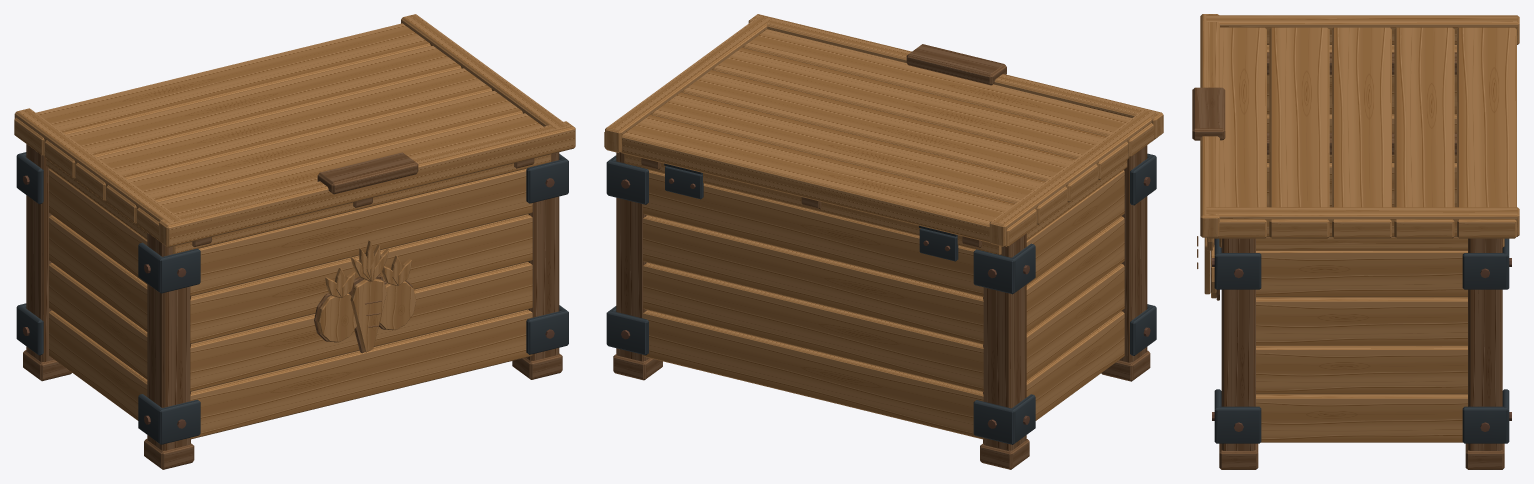
The model's file is ShippingBin_A.fbx.
3 renders of one model, left to right at view 1: azimuth 30°, elevation 25°; view 2: azimuth 150°, elevation 25°; view 3: azimuth 270°, elevation 25°, orthographic. The views are drawn at different scales.
Visible parts, largest first — view 1: ShippingBin_Body_LOD0, ShippingBin_Lid_LOD0; view 2: ShippingBin_Body_LOD0, ShippingBin_Lid_LOD0; view 3: ShippingBin_Lid_LOD0, ShippingBin_Body_LOD0.
Part boxes in pixels (left/top/right/bottom): ShippingBin_Body_LOD0: left=16, top=144, right=568, bottom=469; ShippingBin_Lid_LOD0: left=14, top=14, right=575, bottom=247; ShippingBin_Body_LOD0: left=606, top=145, right=1156, bottom=469; ShippingBin_Lid_LOD0: left=604, top=14, right=1163, bottom=247; ShippingBin_Lid_LOD0: left=1192, top=14, right=1519, bottom=238; ShippingBin_Body_LOD0: left=1197, top=45, right=1511, bottom=469.
Size of what is drawn, in the model's own units: 1.62 by 0.9665 by 1.09.
